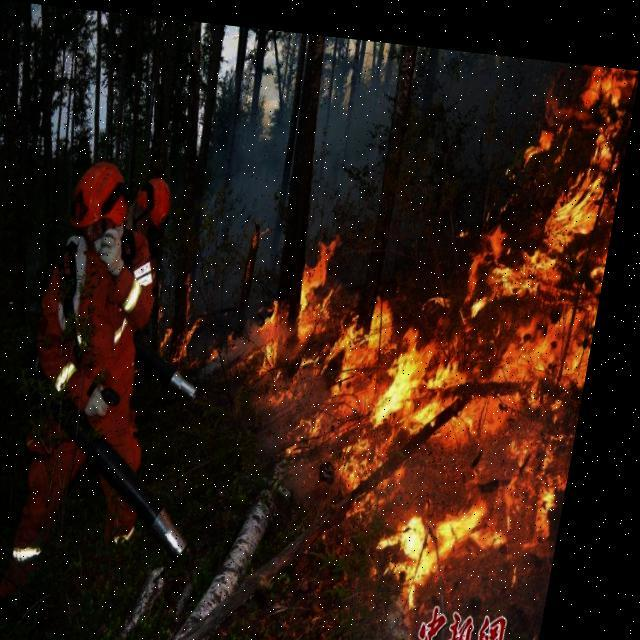Fire: (223, 40, 633, 582)
